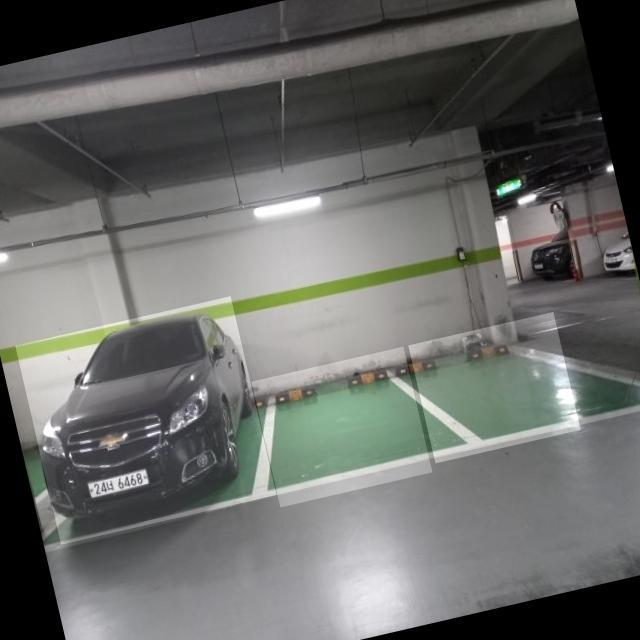empty: (251, 346, 432, 507), (408, 312, 580, 462)
occupied: (15, 296, 276, 544)
